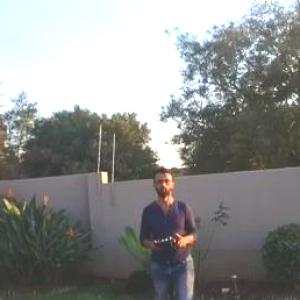follow: (136, 163, 204, 299)
